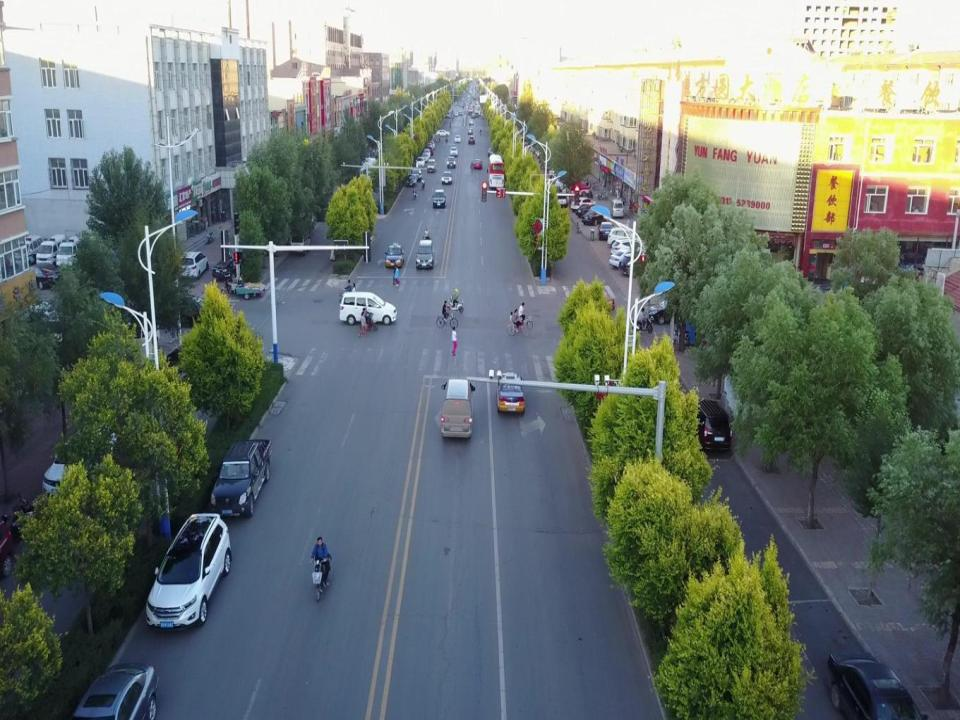bus: (487, 154, 505, 190)
car: (145, 513, 232, 631), (825, 651, 929, 720), (42, 422, 120, 506), (67, 662, 159, 720), (687, 399, 732, 453), (647, 298, 695, 325), (18, 262, 64, 290), (496, 372, 525, 414), (619, 251, 658, 278), (609, 247, 651, 271), (213, 256, 254, 280), (580, 287, 615, 315), (176, 251, 209, 280), (610, 238, 652, 258), (607, 226, 644, 248), (414, 239, 435, 269), (581, 209, 611, 226), (384, 243, 404, 268), (570, 196, 597, 212), (576, 204, 602, 219), (598, 221, 614, 241), (432, 189, 446, 209), (409, 168, 422, 182), (556, 193, 567, 209), (441, 172, 453, 186), (406, 173, 417, 187), (473, 158, 483, 170), (446, 156, 456, 168), (488, 147, 498, 158), (424, 142, 434, 152), (420, 152, 429, 163), (416, 157, 425, 168), (424, 146, 434, 155), (421, 149, 430, 159), (449, 147, 458, 157), (426, 141, 435, 150)
truck: (211, 438, 272, 518)
van: (339, 290, 397, 326), (441, 379, 475, 438), (124, 315, 160, 353), (10, 234, 44, 267), (56, 235, 89, 269), (36, 234, 67, 268), (290, 231, 310, 256), (610, 200, 624, 219), (427, 158, 437, 173)
